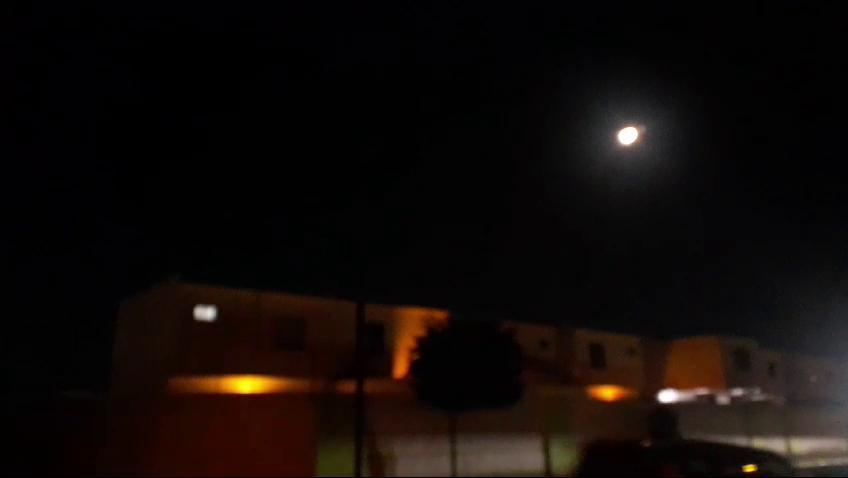moon: (622, 122, 648, 148)
